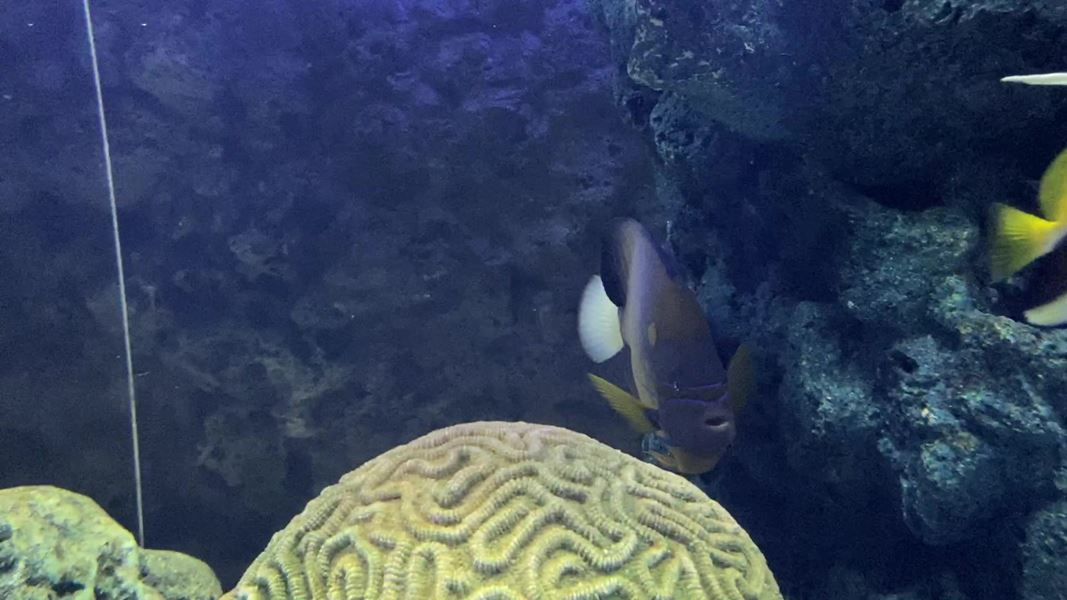Blue ring angelfish: (561, 204, 785, 502)
